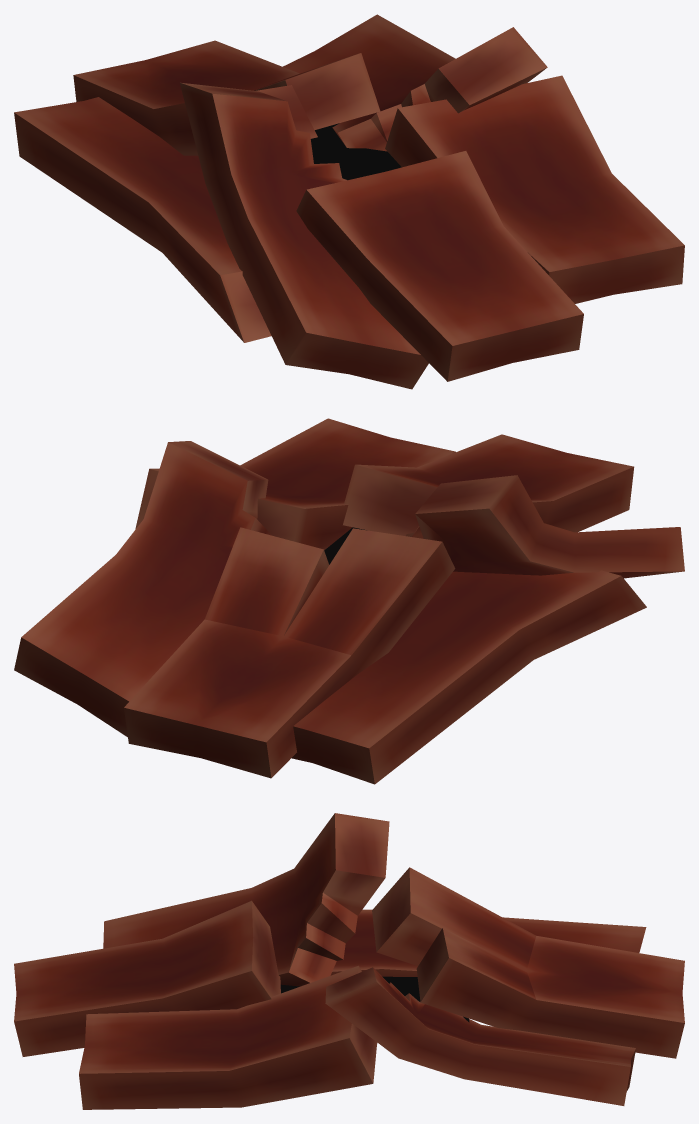
Rendered from porcupim broken floor.fbx.
3 renders of one model, top to bottom at view 1: azimuth 30°, elevation 25°; view 2: azimuth 150°, elevation 25°; view 3: azimuth 270°, elevation 25°, orthographic. The views are drawn at different scales.
Parts seen in each view (by area): view 1: Porcupim - Model; view 2: Porcupim - Model; view 3: Porcupim - Model.
Part boxes in pixels (<box>): Porcupim - Model: <box>14,14,684,389</box>; Porcupim - Model: <box>14,418,684,784</box>; Porcupim - Model: <box>14,813,684,1109</box>.
Bounding box in the file's own units: 347 × 182 × 550.
